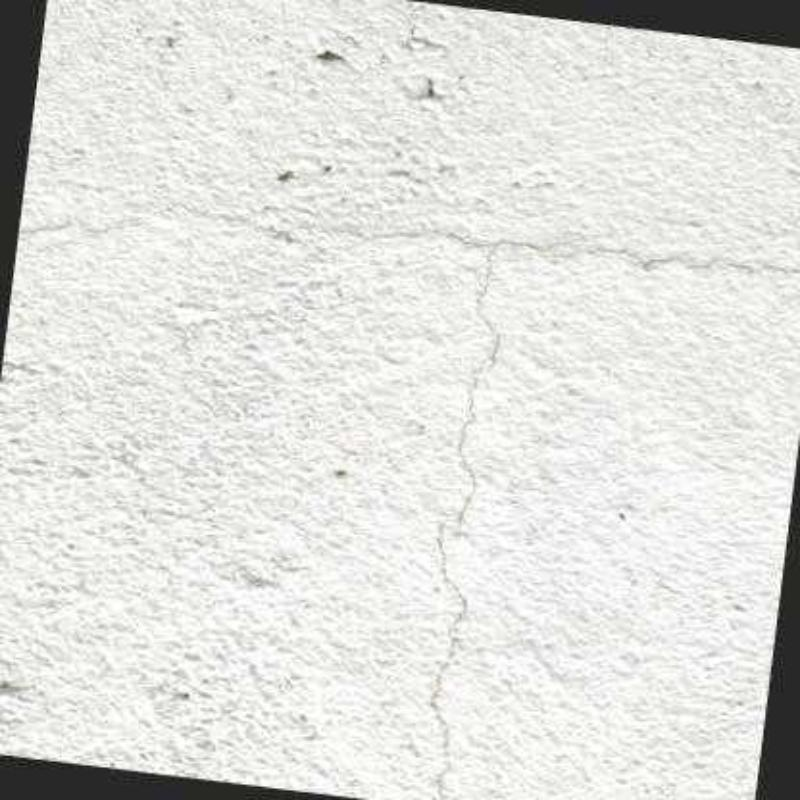crack: (17, 196, 800, 800)
